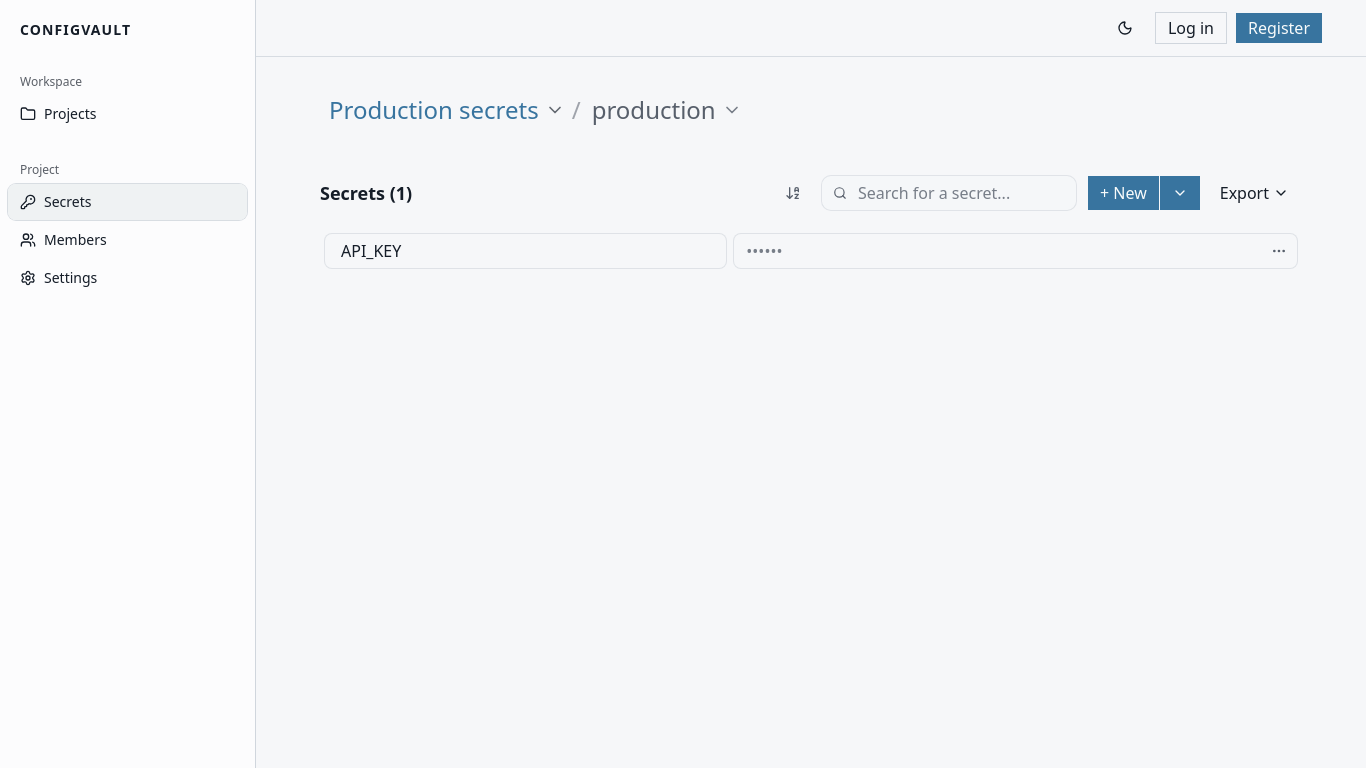
Test: SecretsPage › copies a secrets export from the kebab menu
The image size is (1366, 768).
Step 1. Click the button with aria-label "Secret actions" → (1254, 193), box [1207,177,1302,209]
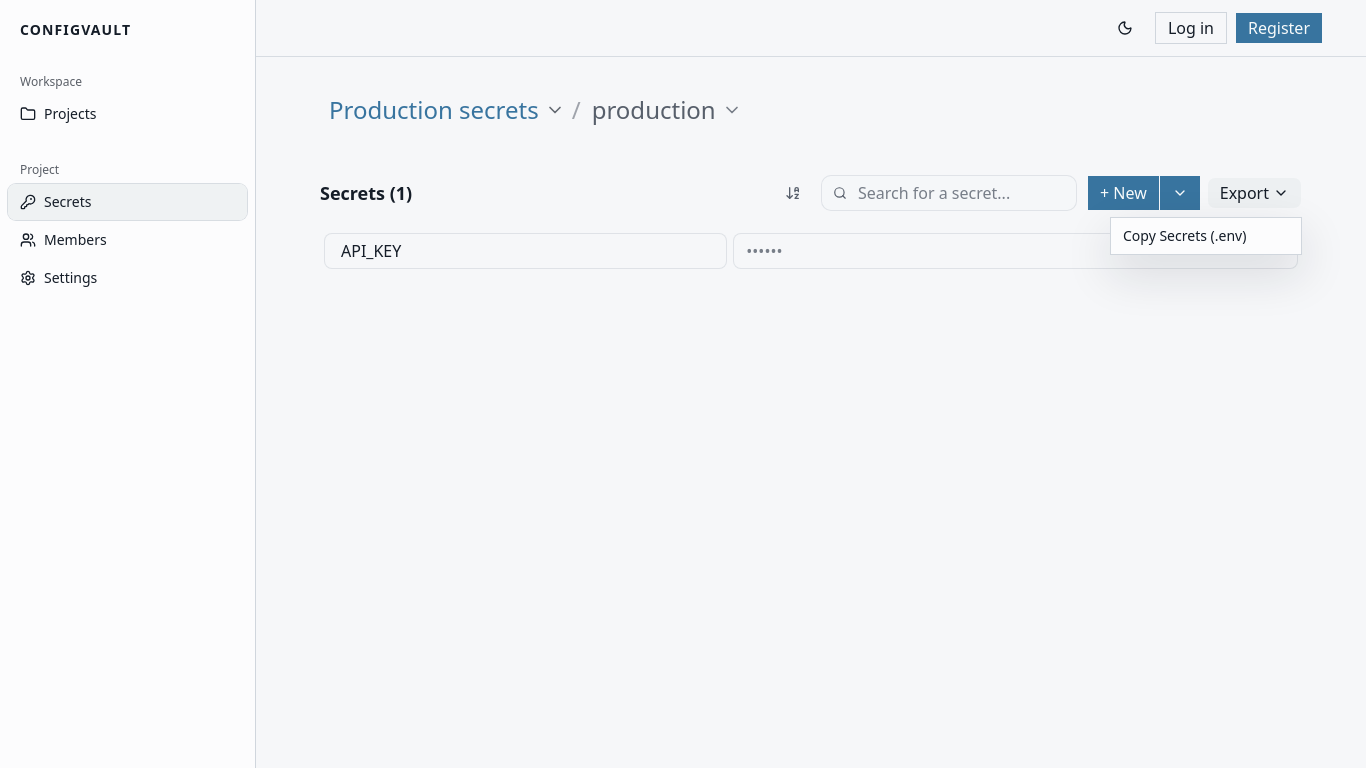
Step 2. Click the menu item "Copy Secrets (.env)" → (1185, 236), box [1123,226,1246,245]
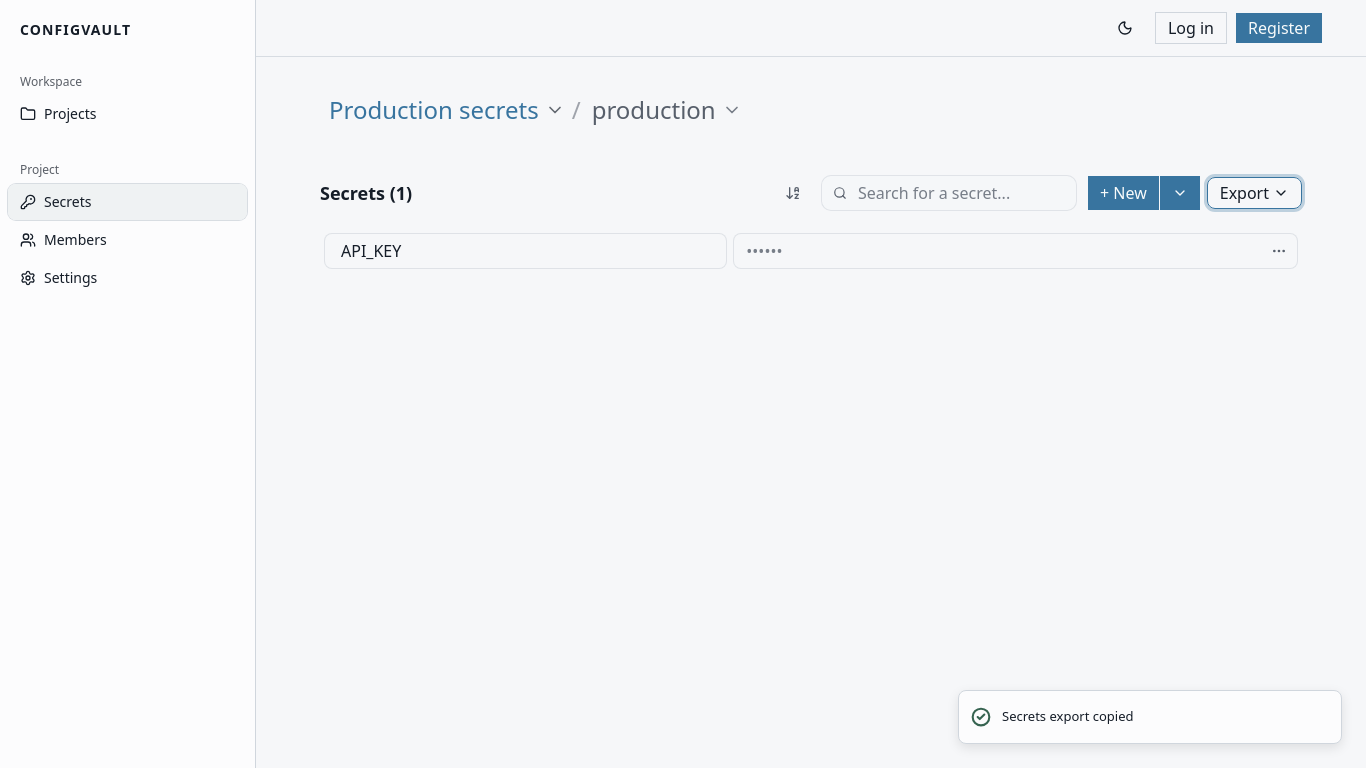
Expected: the text "Secrets export copied" is shown, [1002,707,1134,727]
